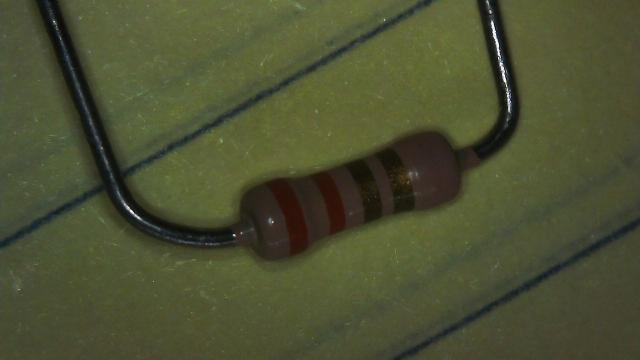gold: (378, 148, 414, 212), (348, 160, 381, 222)
orange: (268, 179, 308, 253), (312, 172, 344, 233)
resistor: (207, 104, 489, 285)
